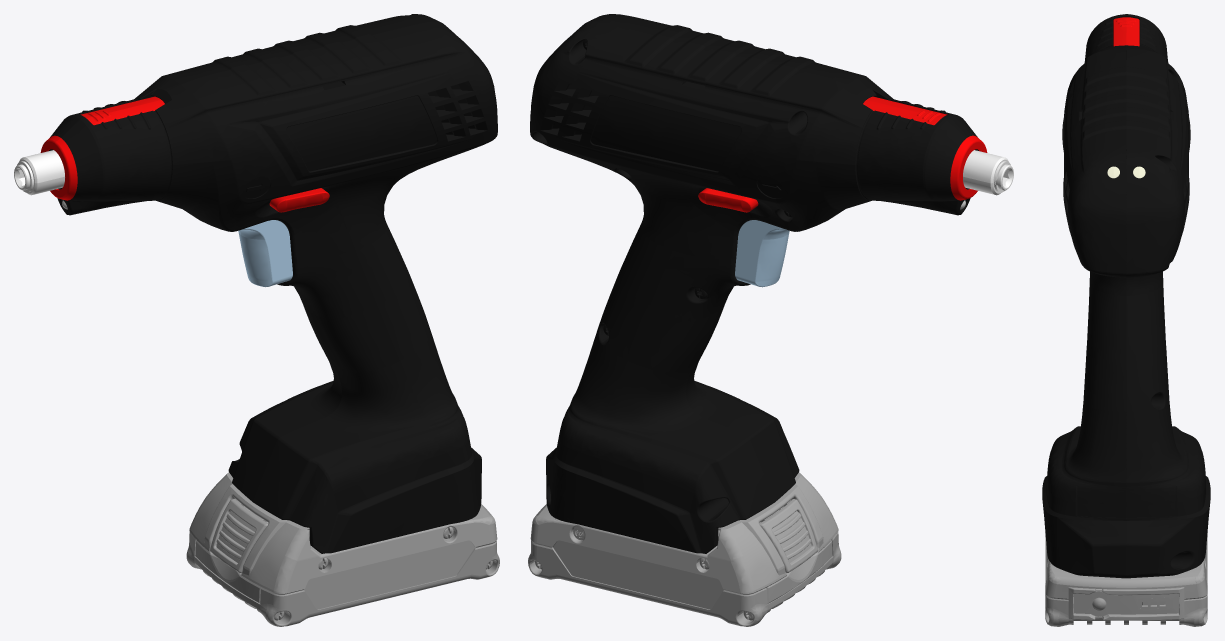
File: tool.glb
3 views of the same model, side by side, from view 1: azimuth 30°, elevation 25°; view 2: azimuth 150°, elevation 25°; view 3: azimuth 270°, elevation 25° (orthographic). The views are drawn at different scales.
Visible parts, largest first — view 1: cad-000, cad-002, cad-001, cad-020, cad-012, cad-024, cad-023, cad-022; view 2: cad-001, cad-002, cad-000, cad-020, cad-012, cad-024, cad-023, cad-022; view 3: cad-000, cad-001, cad-002, cad-023.
Part boxes in pixels (bbox=[...]): cad-000: bbox=[58, 21, 497, 553]; cad-002: bbox=[186, 472, 499, 626]; cad-001: bbox=[49, 14, 439, 501]; cad-020: bbox=[238, 220, 292, 287]; cad-012: bbox=[19, 150, 64, 195]; cad-024: bbox=[40, 135, 77, 200]; cad-023: bbox=[80, 96, 164, 125]; cad-022: bbox=[269, 188, 329, 212]; cad-001: bbox=[530, 21, 969, 553]; cad-002: bbox=[528, 472, 841, 626]; cad-000: bbox=[588, 14, 978, 501]; cad-020: bbox=[735, 220, 789, 287]; cad-012: bbox=[963, 150, 1008, 195]; cad-024: bbox=[950, 135, 987, 200]; cad-023: bbox=[863, 96, 947, 125]; cad-022: bbox=[698, 188, 758, 212]; cad-000: bbox=[1042, 14, 1126, 578]; cad-001: bbox=[1126, 14, 1210, 578]; cad-002: bbox=[1045, 533, 1207, 626]; cad-023: bbox=[1113, 17, 1139, 46].
Size of the model in its own units: 216 by 236 by 77.16.
